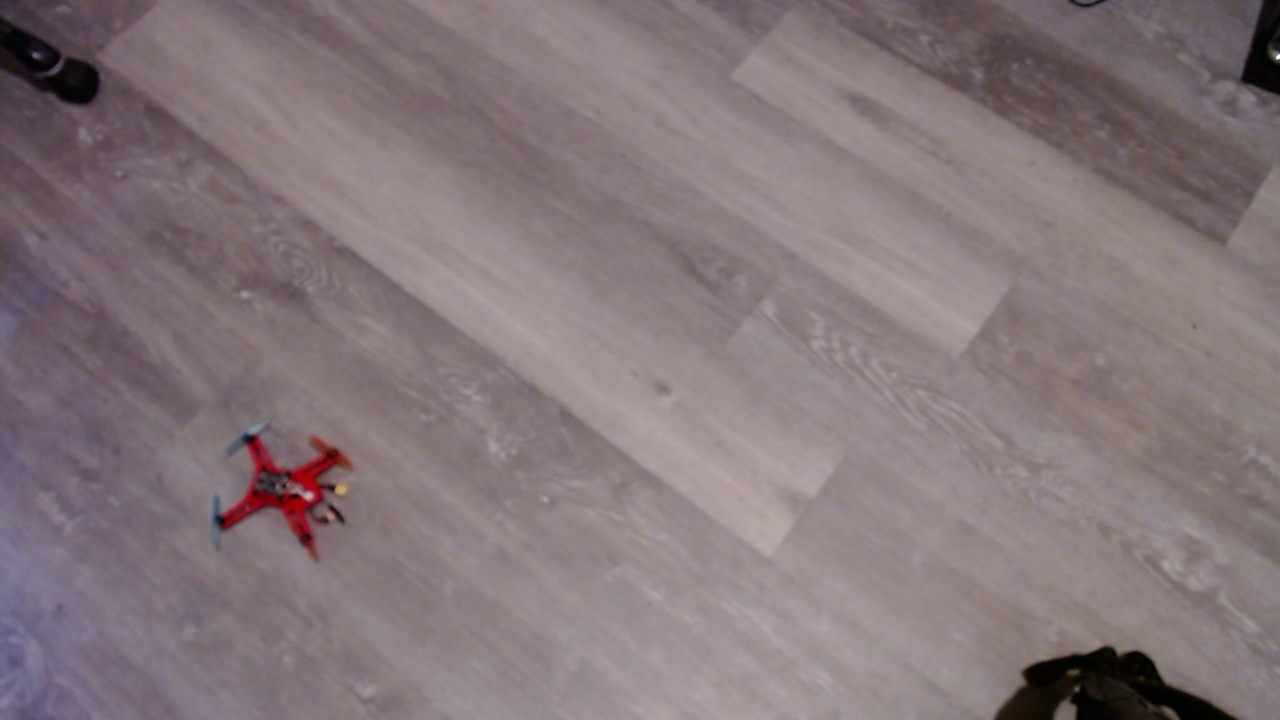crazyflie: (206, 422, 366, 579)
